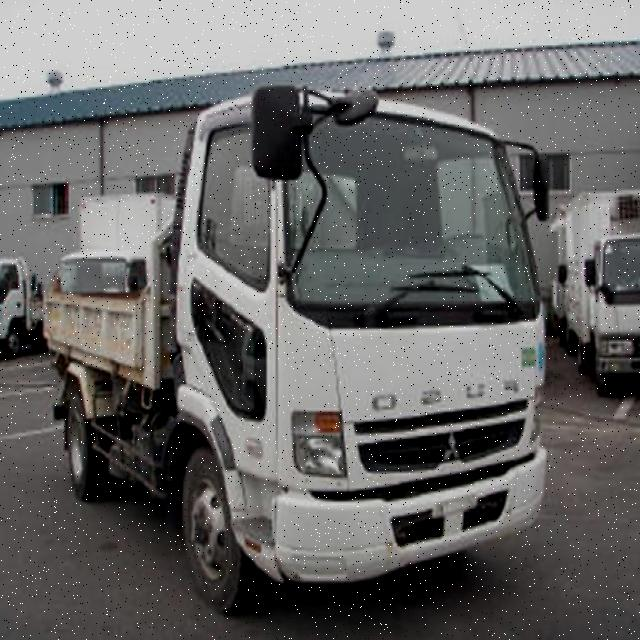truck: (46, 80, 552, 611)
